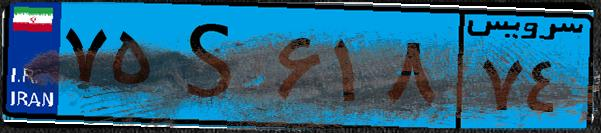1: (330, 28, 385, 110)
4: (525, 38, 570, 115)
5: (110, 28, 158, 98)
6: (270, 28, 330, 110)
7: (57, 26, 110, 100), (475, 38, 525, 113)
8: (385, 28, 445, 110)
S: (158, 12, 270, 120)
